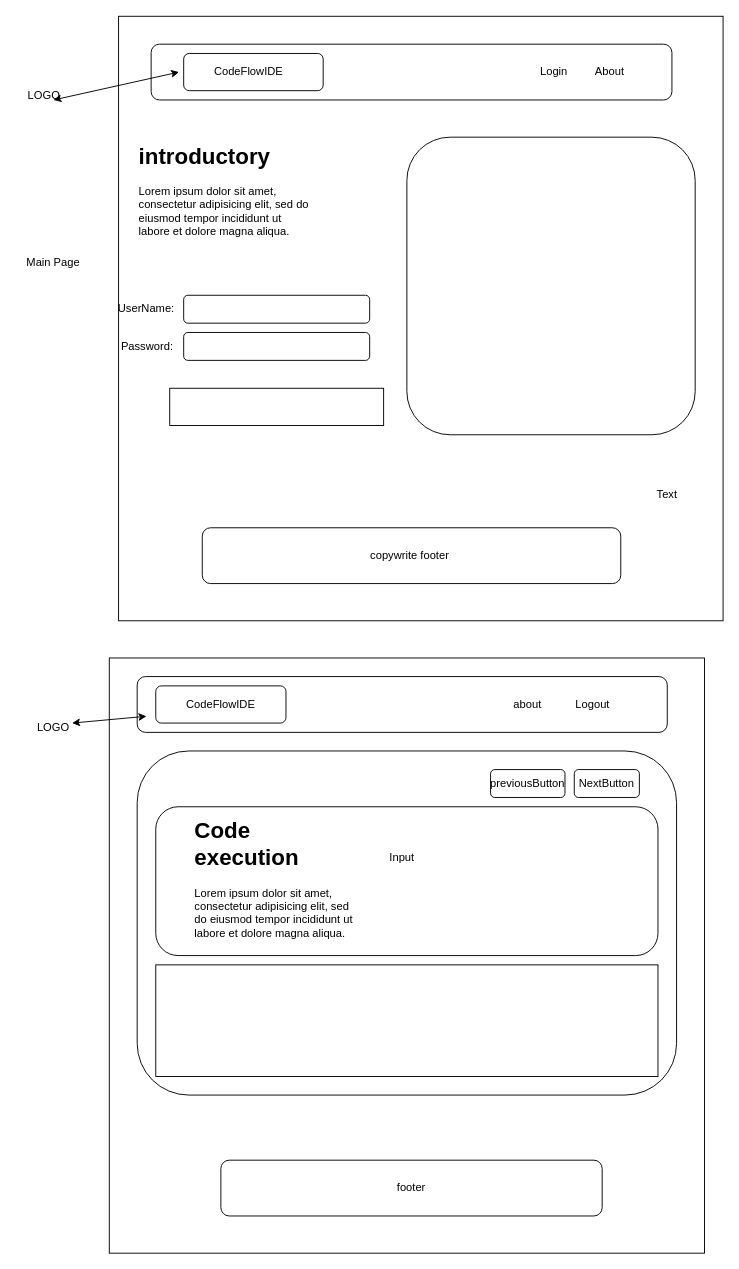
This 739x1269 diagram has some shape labels left out. Each missing label, with the centre of its shape:
"login Button" belongs at point (276, 406).
"Output" belongs at point (406, 1020).
"some icon" belongs at point (550, 285).
